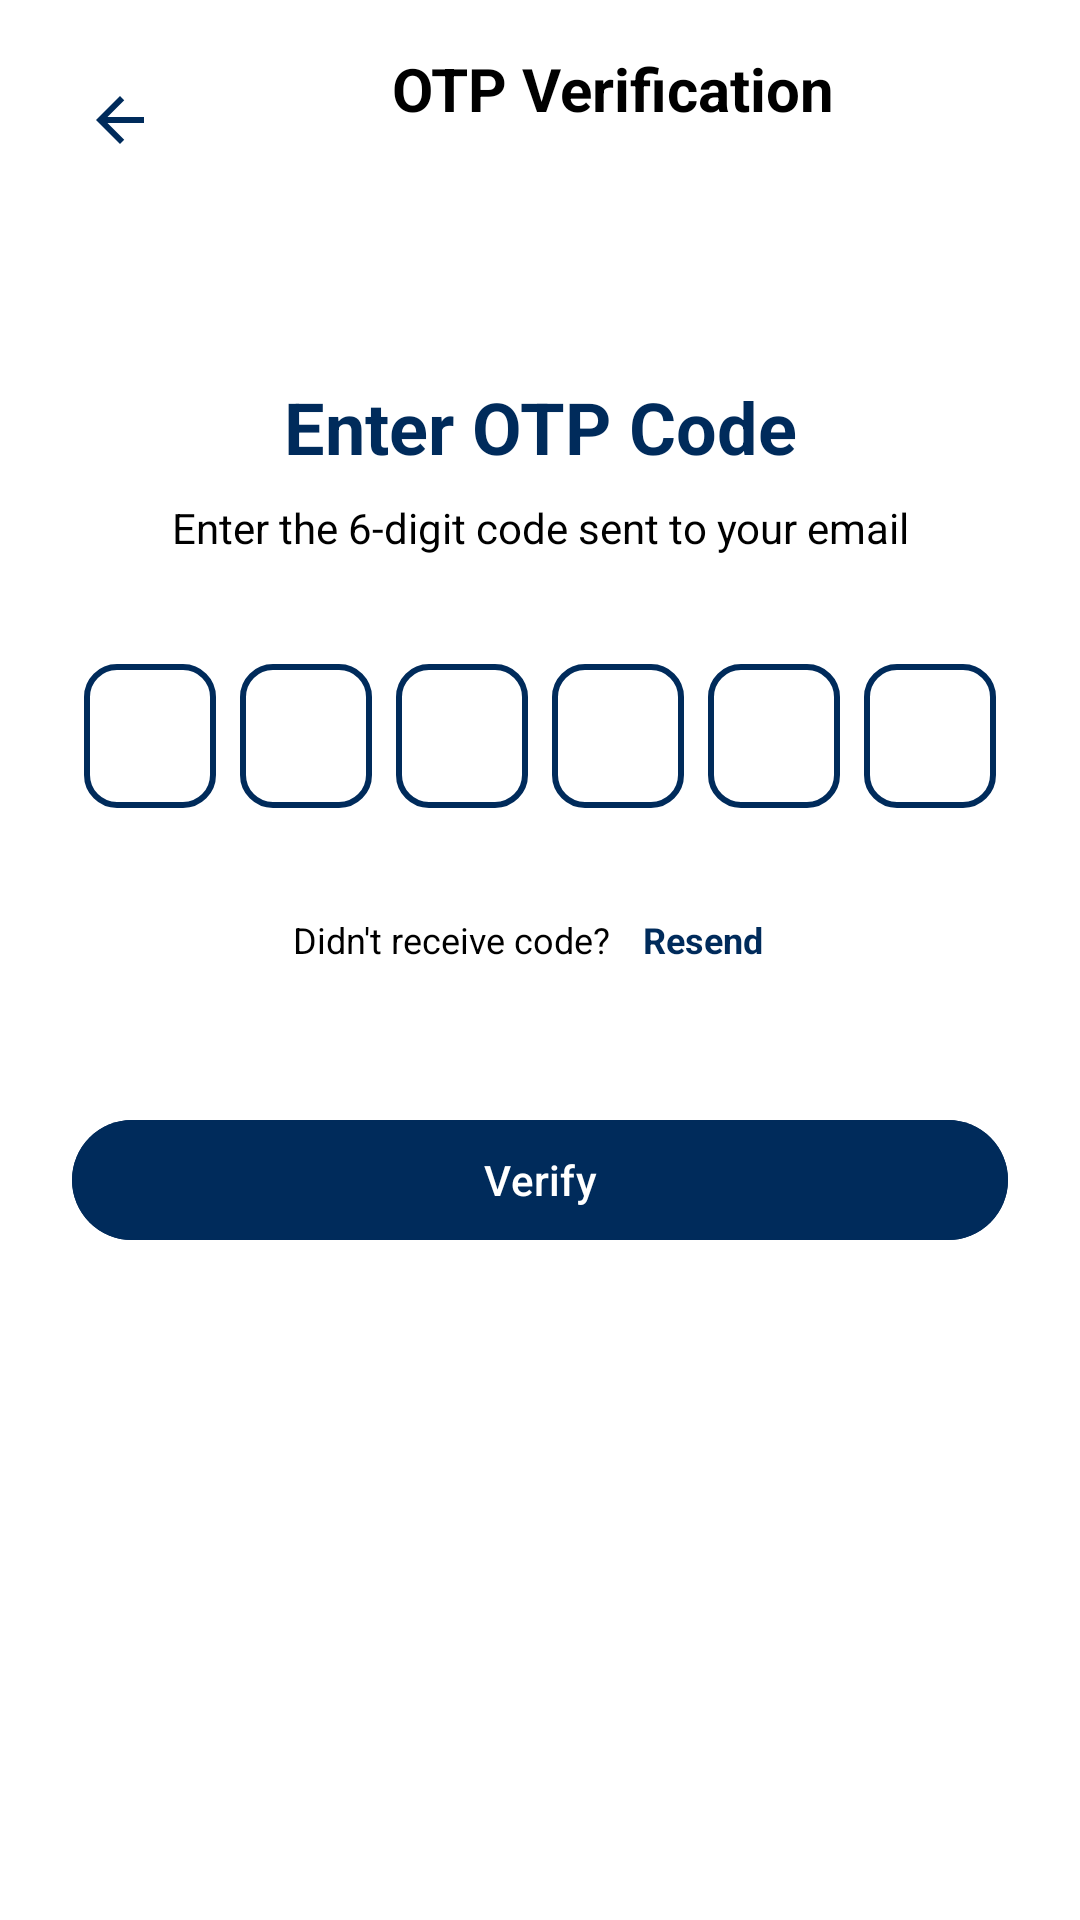

Icons on this 1080×1920 Android screen, each with its box as (x1, y1, x2, y2):
Back Button: (96, 96, 144, 144)
